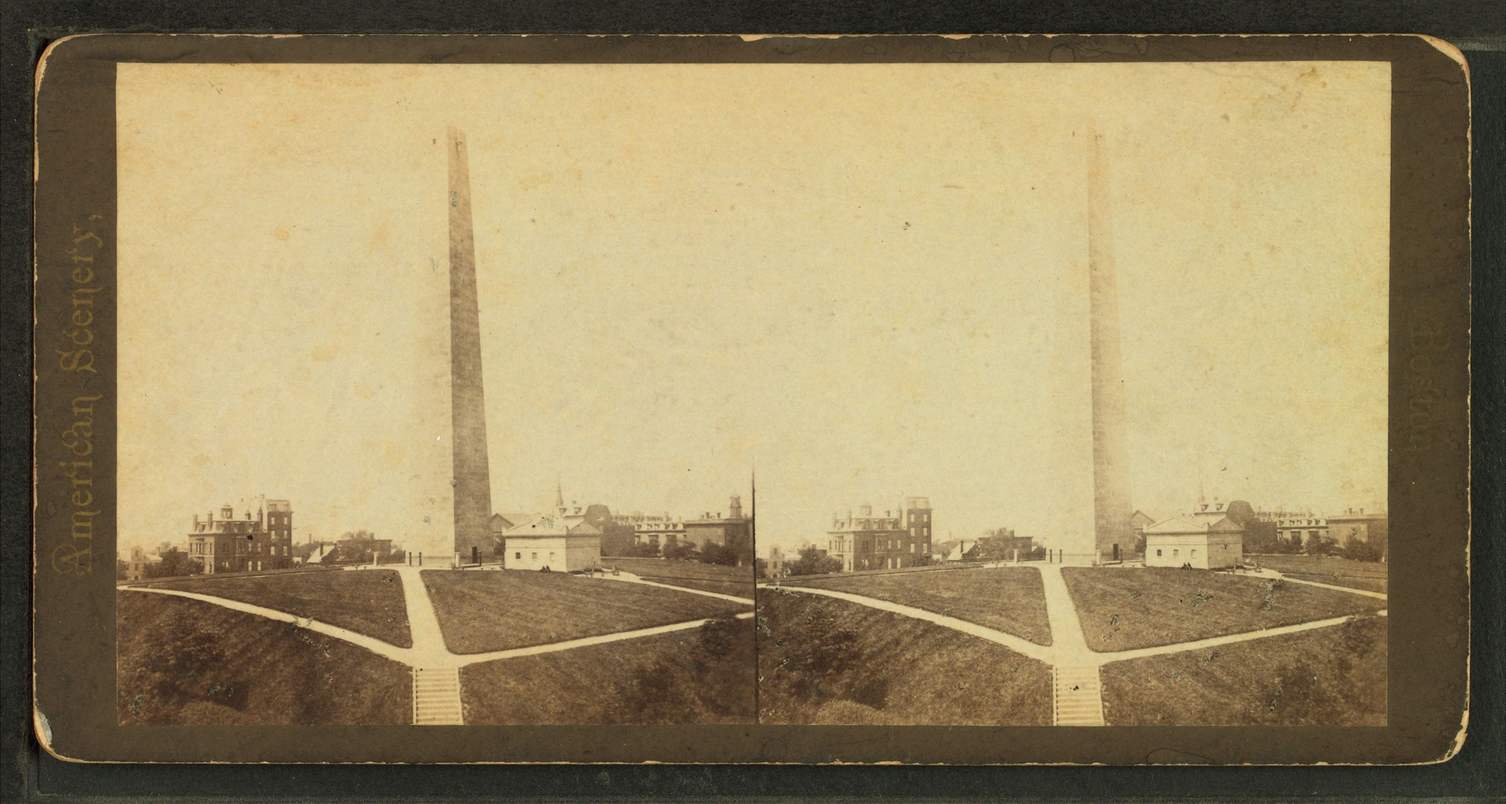half_image: (752, 60, 1392, 727), (118, 63, 756, 727)
